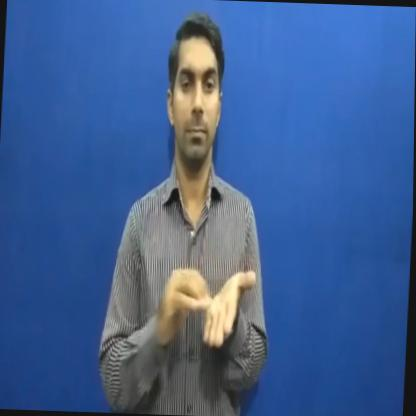ExcuseMe: (152, 232, 265, 366)
